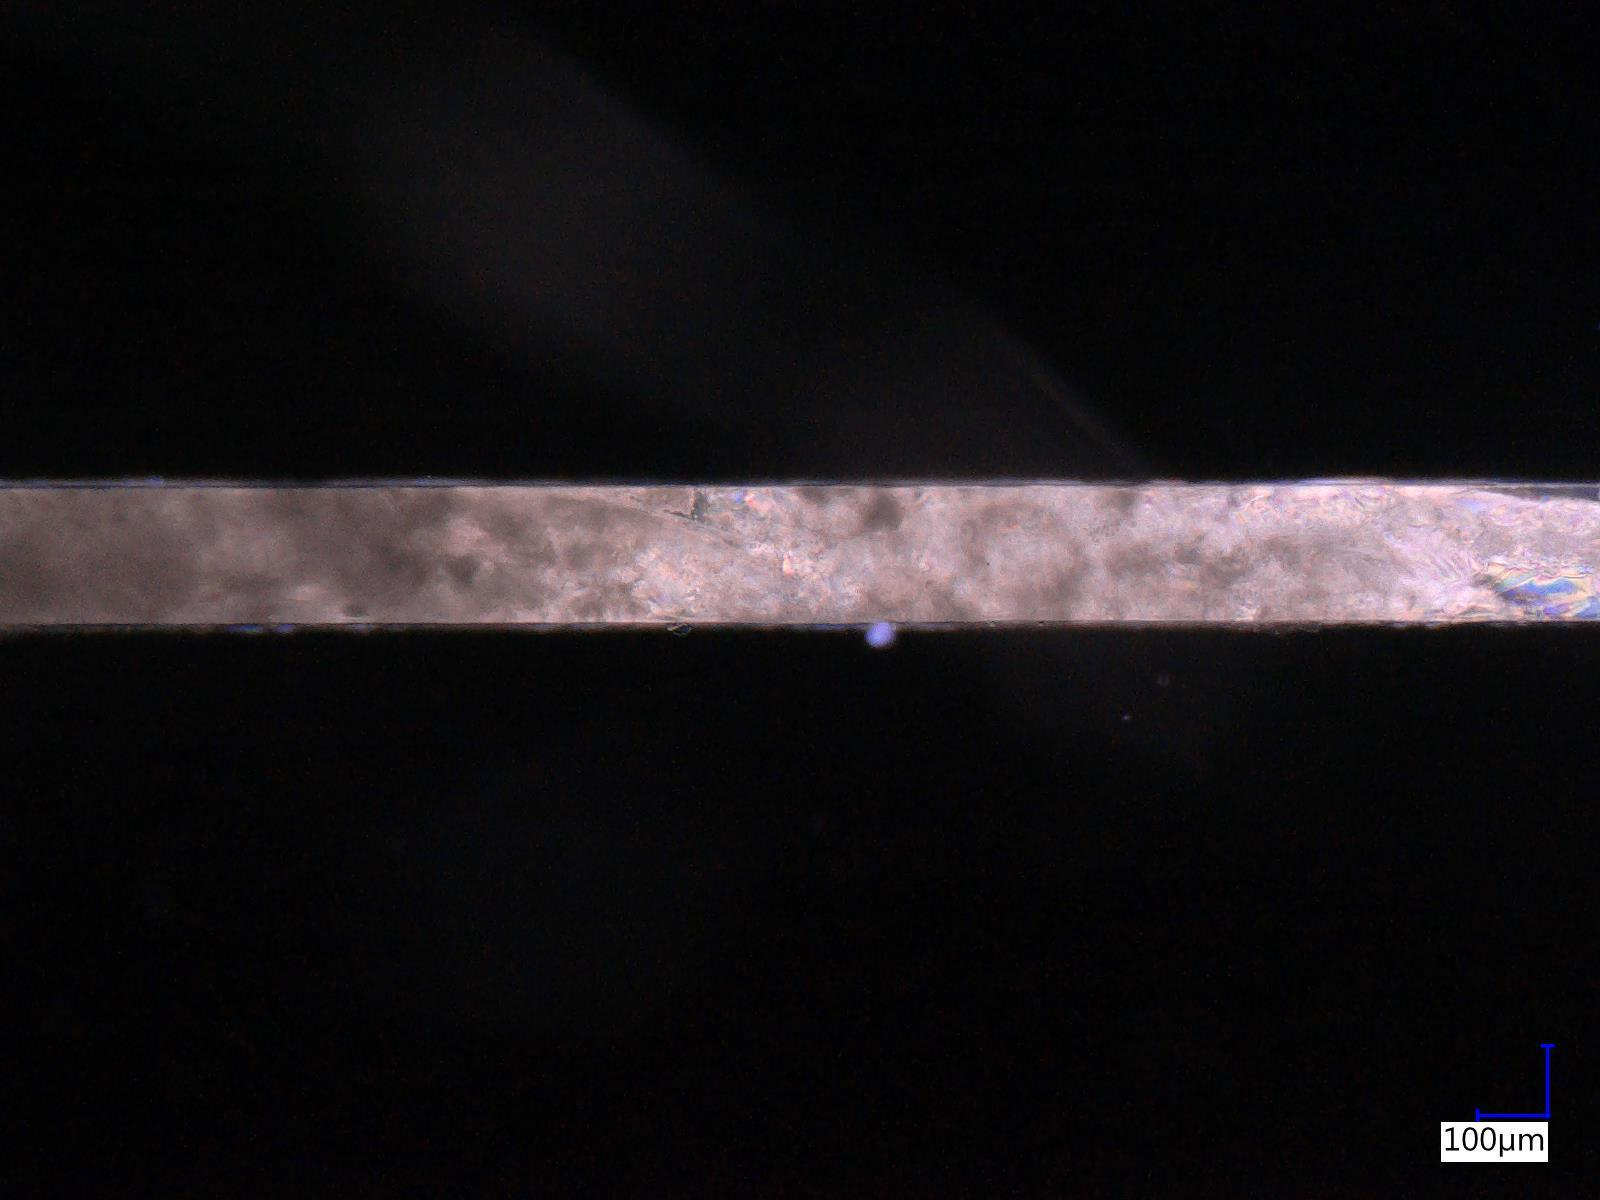sediment: (3, 488, 653, 620), (855, 487, 1089, 619)
